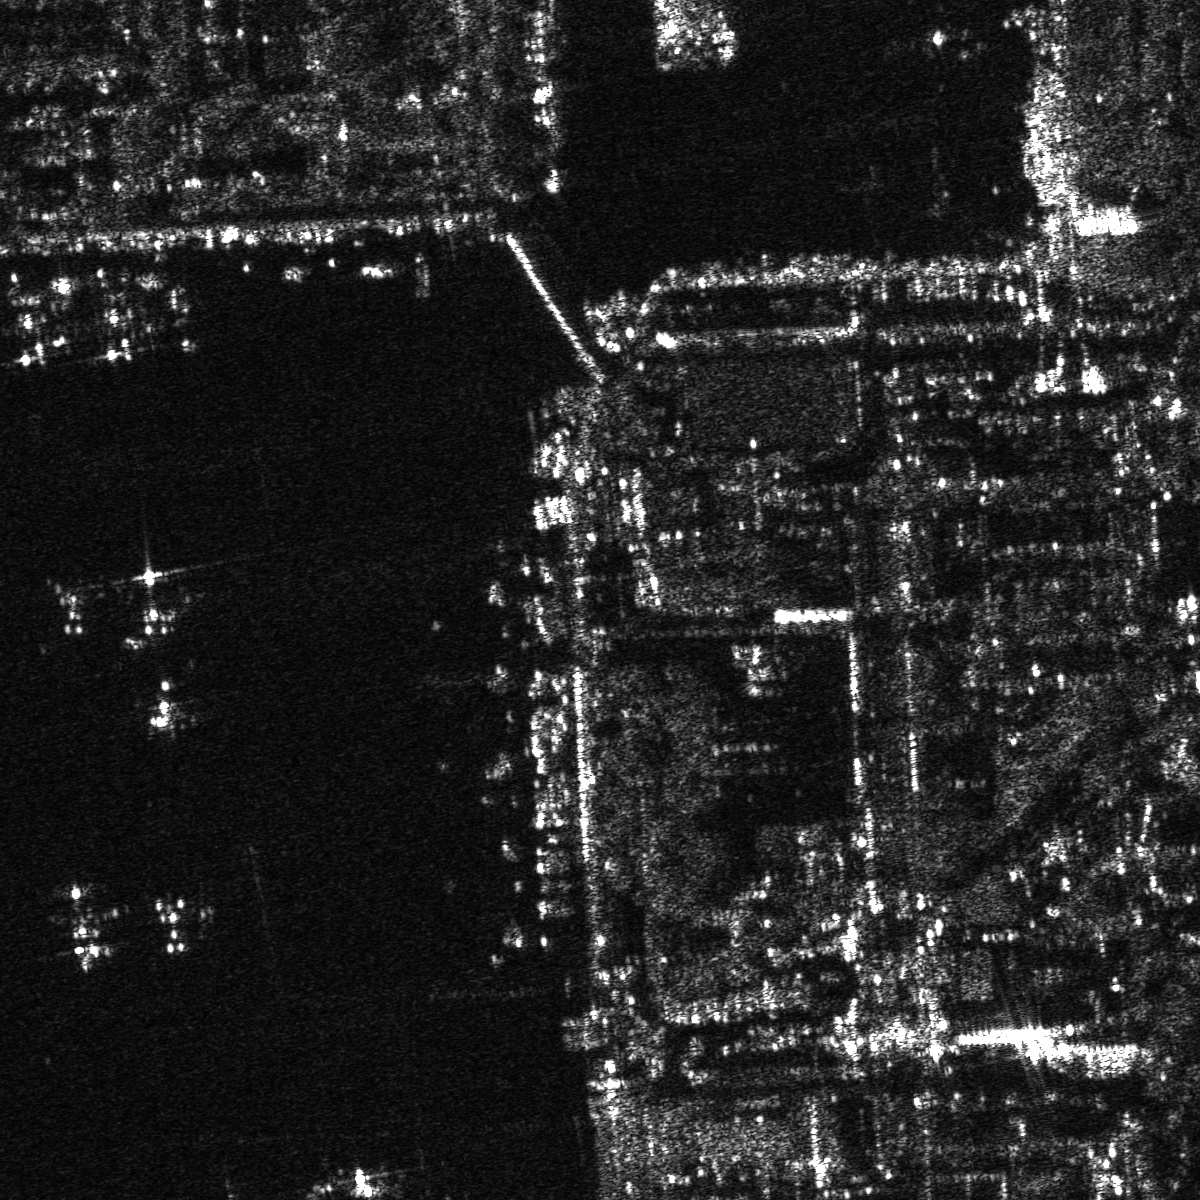A220: (143, 887, 213, 958)
ARJ21: (151, 277, 223, 354), (137, 676, 192, 740)
Boeing787: (313, 1152, 407, 1199)
other: (36, 882, 134, 976), (124, 557, 196, 649), (85, 288, 156, 367), (49, 573, 109, 635)
